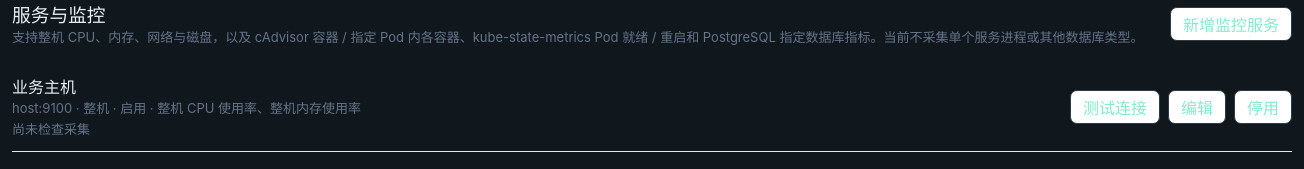
Test: environment monitoring › presents connection failure without claiming available monitoring
The width and height of the screenshot is (1304, 169).
Step 1. Click the button "测试连接" → x=1115, y=107, box [1070,90,1160,124]
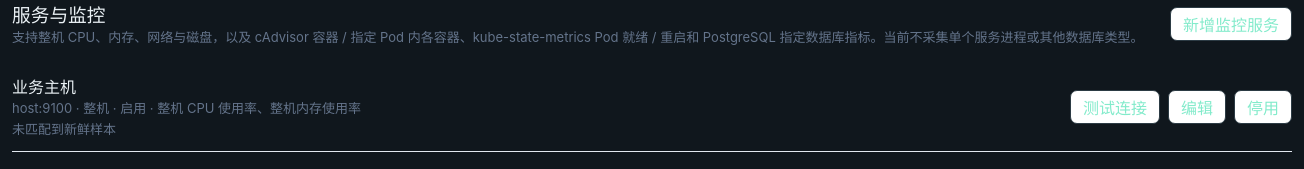
Expected: the text "当前不采集单个服务" is shown, [12,29,1143,45]
Expected: the text "未匹配到新鲜样本" is shown, [12,121,116,137]
